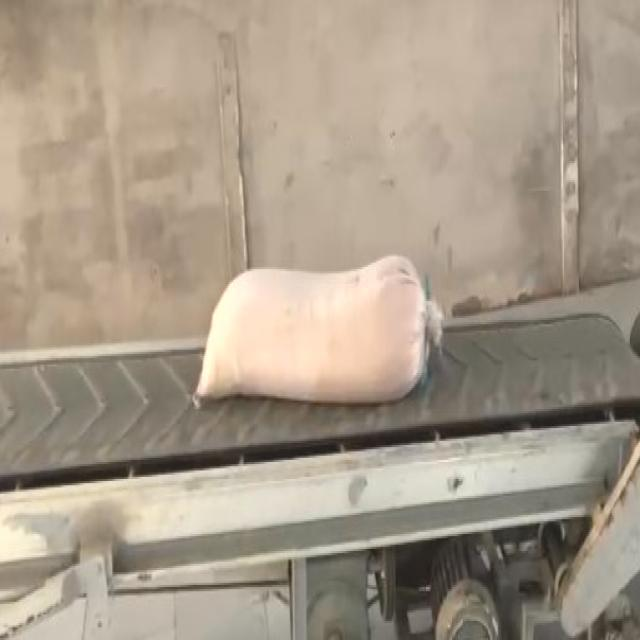gunny_bag: (195, 256, 426, 402)
